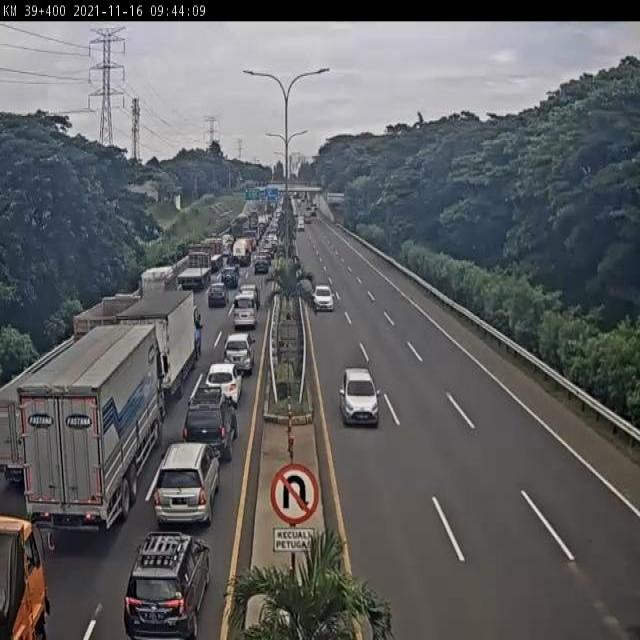Car: (123, 531, 211, 640), (150, 442, 220, 528), (182, 386, 238, 461), (338, 366, 381, 426), (204, 360, 244, 408), (223, 332, 255, 376), (231, 293, 258, 330), (312, 284, 335, 312), (208, 282, 228, 308), (221, 266, 239, 289), (254, 257, 269, 274), (297, 218, 305, 232)
Truck: (17, 322, 164, 536), (126, 291, 194, 394), (1, 514, 50, 638), (176, 246, 210, 291), (231, 238, 252, 265)
